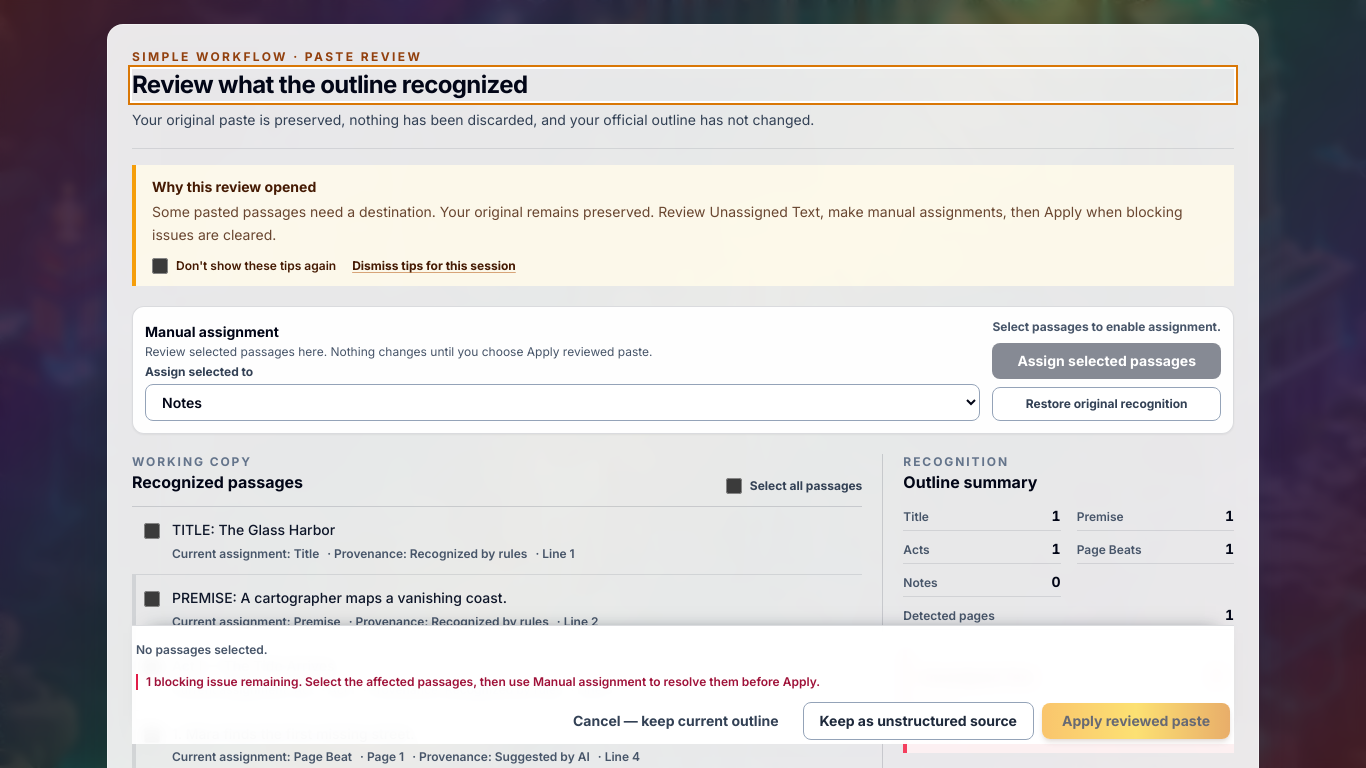
Test: WriterOutlinePasteReview › dismisses onboarding for the current session without changing persistent preferences
The image size is (1366, 768).
Click the button "Dismiss tips for this session".
click(434, 266)  # box [352,258,516,274]
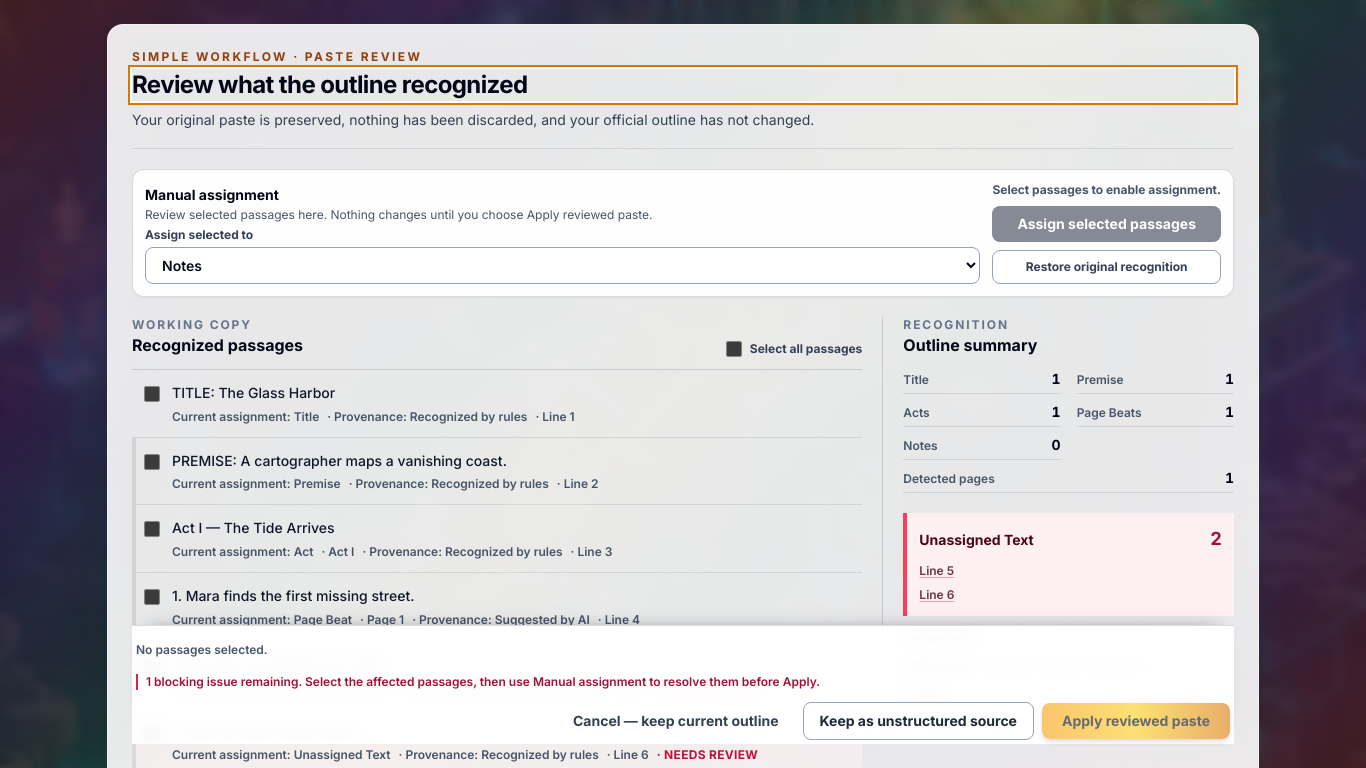
Expected: the heading "Why this review opened" is gone
